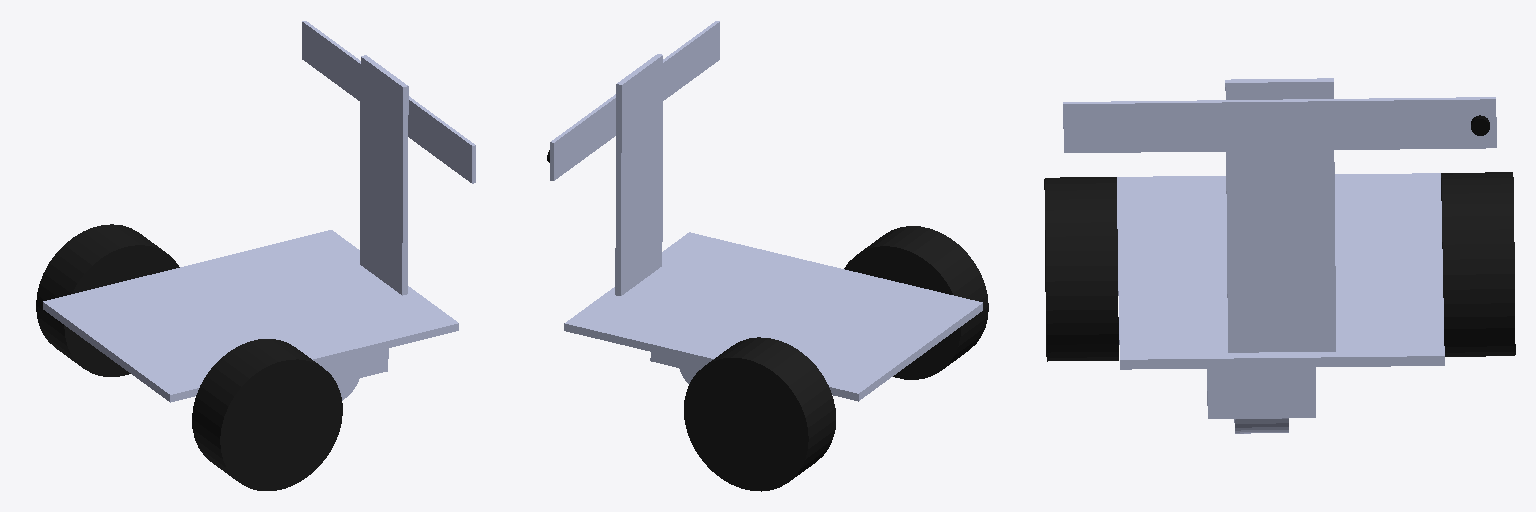
The robot description file, URDF, robot "jetbot_urdf":

<!--
 JetBot URDF — fixed from sw2urdf export
     Changes vs original:
       1. Added base_footprint link (ground reference for RViz)
       2. wheelLeft/wheelRight: removed <limit lower=0 upper=0> (caused TF break)
       3. wheelLeft/wheelRight: axis corrected to "0 0 1" (joint-local Z after rpy rotation)
       4. camera_right: mass/inertia corrected to match camera_left
       5. Package name kept as "assembly_urdf" — just replace with your actual package name
-->
<robot name="jetbot_urdf">
<!--
-->
<link name="base_footprint"/>
<joint name="base_footprint_joint" type="fixed">
  <parent link="base_footprint"/>
  <child link="base_link"/>
  <origin xyz="0 0 0.034" rpy="0 0 0"/>
</joint>

<!-- ── BASE LINK ── -->
<link name="base_link">
<inertial>
<origin xyz="4.5687E-07 1.7455E-05 -0.0019999" rpy="0 0 0"/>
<mass value="0.0768"/>
<inertia ixx="9.2268E-05" ixy="-6.2493E-07" ixz="-4.2858E-08" iyy="0.00016394" iyz="-8.036E-07" izz="0.00025599"/>
</inertial>
<visual>
<origin xyz="0 0 0" rpy="0 0 0"/>
<geometry>
<mesh filename="package://jetbot_ros/meshes/base_link.STL"/>
</geometry>
<material name="chassis">
<color rgba="0.79216 0.81961 0.93333 1"/>
</material>
</visual>
<collision>
<origin xyz="0 0 0" rpy="0 0 0"/>
<geometry>
<mesh filename="package://jetbot_ros/meshes/base_link.STL"/>
</geometry>
</collision>
</link>
<!-- ── LEFT WHEEL ── -->
<link name="wheel_left">
<inertial>
<origin xyz="0.000116 0.000116 -0.013299" rpy="0 0 0"/>
<mass value="0.0966027174608247"/>
<inertia ixx="3.36159E-05" ixy="1.69143E-09" ixz="-1.93841E-07" iyy="3.36159E-05" iyz="-1.93878E-07" izz="5.58330E-05"/>
</inertial>
<visual>
<origin xyz="0 0 0" rpy="0 0 0"/>
<geometry>
<mesh filename="package://jetbot_ros/meshes/wheel_left.STL"/>
</geometry>
<material name="wheel">
<color rgba="0.15 0.15 0.15 1"/>
</material>
</visual>
<collision>
<origin xyz="0 0 0" rpy="0 0 0"/>
<geometry>
<mesh filename="package://jetbot_ros/meshes/wheel_left.STL"/>
</geometry>
</collision>
</link>
<joint name="wheelLeft" type="continuous">
<origin xyz="-0.034751 0.086437 -0.015254" rpy="-1.5708 0 0"/>
<parent link="base_link"/>
<child link="wheel_left"/>
<!--
 FIX: axis corrected to joint-local Z (= world Y after rpy="-1.5708 0 0") 
-->
<axis xyz="0 0 1"/>
<!--
 FIX: removed <limit lower=0 upper=0> — caused TF break 
-->
<dynamics damping="0.1" friction="0.1"/>
</joint>
<!-- ── RIGHT WHEEL ── -->
<link name="wheel_right">
<inertial>
<origin xyz="-0.000116 0.000116 -0.013299" rpy="0 0 0"/>
<mass value="0.0966027174608247"/>
<inertia ixx="3.36159E-05" ixy="-1.69143E-09" ixz="1.93841E-07" iyy="3.36159E-05" iyz="-1.93878E-07" izz="5.58330E-05"/>
</inertial>
<visual>
<origin xyz="0 0 0" rpy="0 0 0"/>
<geometry>
<mesh filename="package://jetbot_ros/meshes/wheel_right.STL"/>
</geometry>
<material name="wheel">
<color rgba="0.15 0.15 0.15 1"/>
</material>
</visual>
<collision>
<origin xyz="0 0 0" rpy="0 0 0"/>
<geometry>
<mesh filename="package://jetbot_ros/meshes/wheel_right.STL"/>
</geometry>
</collision>
</link>
<joint name="wheelRight" type="continuous">
<origin xyz="-0.03324 -0.08675 -0.016765" rpy="1.5708 0 0"/>
<parent link="base_link"/>
<child link="wheel_right"/>
<!--
 FIX: axis corrected (rpy="1.5708 0 0" also rotates Z → Y, but flipped) 
-->
<axis xyz="0 0 1"/>
<!-- FIX: removed <limit lower=0 upper=0> -->
<dynamics damping="0.1" friction="0.1"/>
</joint>
<!-- ── ARM1 (vertical) ── -->
<link name="arm1">
<inertial>
<origin xyz="-0.001500 -1.308E-05 -4.568E-07" rpy="0 0 0"/>
<mass value="0.0132"/>
<inertia ixx="1.5070E-05" ixy="1.5239E-08" ixz="3.1713E-09" iyy="1.3319E-05" iyz="1.0080E-07" izz="1.7708E-06"/>
</inertial>
<visual>
<origin xyz="0 0 0" rpy="0 0 0"/>
<geometry>
<mesh filename="package://jetbot_ros/meshes/arm1.STL"/>
</geometry>
<material name="chassis">
<color rgba="0.79216 0.81961 0.93333 1"/>
</material>
</visual>
<collision>
<origin xyz="0 0 0" rpy="0 0 0"/>
<geometry>
<mesh filename="package://jetbot_ros/meshes/arm1.STL"/>
</geometry>
</collision>
</link>
<joint name="arm1" type="fixed">
<origin xyz="0.074985 0.00017408 0.055021" rpy="0 0 0"/>
<parent link="base_link"/>
<child link="arm1"/>
</joint>
<!-- ── ARM2 (horizontal bar) ── -->
<link name="arm2">
<inertial>
<origin xyz="-0.001000 -8.721E-06 -3.046E-07" rpy="0 0 0"/>
<mass value="0.0064"/>
<inertia ixx="1.3866E-05" ixy="1.1908E-07" ixz="1.0873E-09" iyy="2.1753E-07" iyz="-1.1726E-07" izz="1.3654E-05"/>
</inertial>
<visual>
<origin xyz="0 0 0" rpy="0 0 0"/>
<geometry>
<mesh filename="package://jetbot_ros/meshes/arm2.STL"/>
</geometry>
<material name="chassis">
<color rgba="0.79216 0.81961 0.93333 1"/>
</material>
</visual>
<collision>
<origin xyz="0 0 0" rpy="0 0 0"/>
<geometry>
<mesh filename="package://jetbot_ros/meshes/arm2.STL"/>
</geometry>
</collision>
</link>
<joint name="arm2" type="fixed">
<origin xyz="0.0019912 -0.0003142 0.037999" rpy="0 0 0"/>
<parent link="arm1"/>
<child link="arm2"/>
</joint>
<!-- ── CAMERA LEFT ── -->
<link name="camera_left">
<inertial>
<origin xyz="-0.001500 -1.308E-05 -4.568E-07" rpy="0 0 0"/>
<mass value="0.00011545"/>
<inertia ixx="7.0713E-10" ixy="2.3284E-12" ixz="8.1308E-14" iyy="4.4019E-10" iyz="7.0913E-16" izz="4.4017E-10"/>
</inertial>
<visual>
<origin xyz="0 0 0" rpy="0 0 0"/>
<geometry>
<mesh filename="package://jetbot_ros/meshes/camera_left.STL"/>
</geometry>
<material name="camera">
<color rgba="0.10 0.10 0.10 1"/>
</material>
</visual>
<collision>
<origin xyz="0 0 0" rpy="0 0 0"/>
<geometry>
<mesh filename="package://jetbot_ros/meshes/camera_left.STL"/>
</geometry>
</collision>
</link>
<joint name="cameraLeft" type="fixed">
<origin xyz="0.0023543 0.074021 0.00064658" rpy="0 0 0"/>
<parent link="arm2"/>
<child link="camera_left"/>
</joint>
<!--
 Camera left optical frame (ROS REP-103: Z forward, X right) 
-->
<link name="camera_left_optical_frame"/>
<joint name="camera_left_optical_joint" type="fixed">
<parent link="camera_left"/>
<child link="camera_left_optical_frame"/>
<origin xyz="0 0 0" rpy="-1.5707963 0 -1.5707963"/>
</joint>
<!-- ── CAMERA RIGHT ── -->
<link name="camera_right">
<inertial>
<!--
 FIX: was 0.35788kg (whole robot!) — corrected to match camera_left 
-->
<origin xyz="-0.001500 -1.308E-05 -4.568E-07" rpy="0 0 0"/>
<mass value="0.00011545"/>
<inertia ixx="7.0713E-10" ixy="2.3284E-12" ixz="8.1308E-14" iyy="4.4019E-10" iyz="7.0913E-16" izz="4.4017E-10"/>
</inertial>
<visual>
<origin xyz="0 0 0" rpy="0 0 0"/>
<geometry>
<mesh filename="package://jetbot_ros/meshes/camera_right.STL"/>
</geometry>
<material name="camera">
<color rgba="0.10 0.10 0.10 1"/>
</material>
</visual>
<collision>
<origin xyz="0 0 0" rpy="0 0 0"/>
<geometry>
<mesh filename="package://jetbot_ros/meshes/camera_right.STL"/>
</geometry>
</collision>
</link>
<joint name="cameraRight" type="fixed">
<origin xyz="0.0036454 -0.073968 -0.00064475" rpy="0 0 0"/>
<parent link="arm2"/>
<child link="camera_right"/>
</joint>
<!-- Camera right optical frame -->
<link name="camera_right_optical_frame"/>
<joint name="camera_right_optical_joint" type="fixed">
<parent link="camera_right"/>
<child link="camera_right_optical_frame"/>
<origin xyz="0 0 0" rpy="-1.5707963 0 -1.5707963"/>
</joint>
<!-- ── CASTER DRIVER ── -->
<link name="casterDriver">
<inertial>
<origin xyz="-0.024999 -0.000218 -7.614E-06" rpy="0 0 0"/>
<mass value="0.06"/>
<inertia ixx="1.2500E-05" ixy="-3.9237E-08" ixz="-2.1699E-09" iyy="1.7000E-05" iyz="-3.0557E-08" izz="2.0500E-05"/>
</inertial>
<visual>
<origin xyz="0 0 0" rpy="0 0 0"/>
<geometry>
<mesh filename="package://jetbot_ros/meshes/casterDriver.STL"/>
</geometry>
<material name="chassis">
<color rgba="0.79216 0.81961 0.93333 1"/>
</material>
</visual>
<collision>
<origin xyz="0 0 0" rpy="0 0 0"/>
<geometry>
<mesh filename="package://jetbot_ros/meshes/casterDriver.STL"/>
</geometry>
</collision>
</link>
<joint name="casterDriver" type="fixed">
<origin xyz="0.060069 -0.0069739 -0.019048" rpy="0 0 0"/>
<parent link="base_link"/>
<child link="casterDriver"/>
</joint>
<!-- ── CASTER SPHERE ── -->
<link name="caster">
<inertial>
<origin xyz="8.879E-05 0.0068776 -0.00994" rpy="0 0 0"/>
<mass value="0.0080425"/>
<inertia ixx="4.1196E-07" ixy="1.0349E-10" ixz="-2.1506E-09" iyy="7.8279E-07" iyz="1.0848E-09" izz="6.5857E-07"/>
</inertial>
<visual>
<origin xyz="0 0 0" rpy="0 0 0"/>
<geometry>
<mesh filename="package://jetbot_ros/meshes/caster.STL"/>
</geometry>
<material name="chassis">
<color rgba="0.79216 0.81961 0.93333 1"/>
</material>
</visual>
<collision>
<origin xyz="0 0 0" rpy="0 0 0"/>
<geometry>
<mesh filename="package://jetbot_ros/meshes/caster.STL"/>
</geometry>
</collision>
</link>
<joint name="caster" type="fixed">
<origin xyz="-0.025083 0.0099121 -0.01492" rpy="-1.5708 0 0"/>
<parent link="casterDriver"/>
<child link="caster"/>
</joint>
</robot>

--- Facts derived from the render (not from the file) ---
Views: 3 orthographic renders of the robot side by side, from view 1: azimuth 30°, elevation 25°; view 2: azimuth 150°, elevation 25°; view 3: azimuth 270°, elevation 25°.
Model jetbot_urdf with 12 links and 11 joints (2 continuous, 9 fixed), rooted at base_footprint, posed all joints at 0.
Links seen in each view (by area): view 1: base_link, wheel_right, arm1, wheel_left, arm2, casterDriver; view 2: base_link, wheel_left, arm1, wheel_right, arm2; view 3: base_link, arm1, arm2, wheel_right, wheel_left, casterDriver, caster.
Link boxes in pixels (bbox=[...]): base_link: bbox=[43, 230, 458, 402]; wheel_right: bbox=[192, 339, 342, 490]; arm1: bbox=[360, 55, 408, 295]; wheel_left: bbox=[36, 224, 179, 376]; arm2: bbox=[302, 21, 475, 183]; casterDriver: bbox=[320, 348, 388, 383]; base_link: bbox=[564, 232, 982, 401]; wheel_left: bbox=[684, 337, 835, 491]; arm1: bbox=[615, 54, 662, 295]; wheel_right: bbox=[844, 226, 988, 379]; arm2: bbox=[550, 21, 719, 180]; base_link: bbox=[1117, 173, 1444, 369]; arm1: bbox=[1225, 78, 1335, 352]; arm2: bbox=[1063, 97, 1496, 152]; wheel_right: bbox=[1044, 177, 1118, 361]; wheel_left: bbox=[1441, 172, 1515, 356]; casterDriver: bbox=[1207, 367, 1315, 418]; caster: bbox=[1234, 418, 1288, 433].
Bounding box of the posed robot: 0.161 × 0.174 × 0.1609 m (x, y, z).
8 mesh visuals loaded from 9 distinct referenced files (8 binary STL); not drawn: 1 (reference not matched to a file when rendering).
